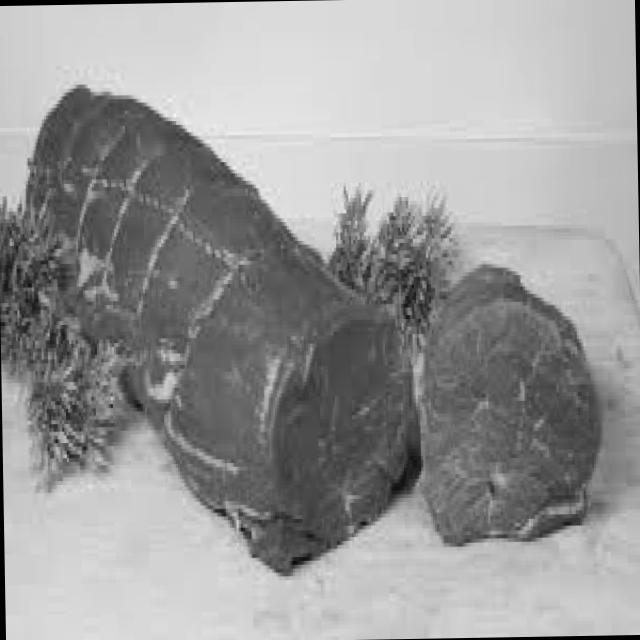filet: (142, 292, 408, 567), (405, 304, 608, 543)
